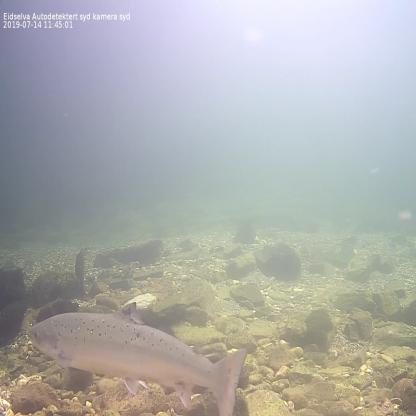salmon: (23, 300, 250, 415)
